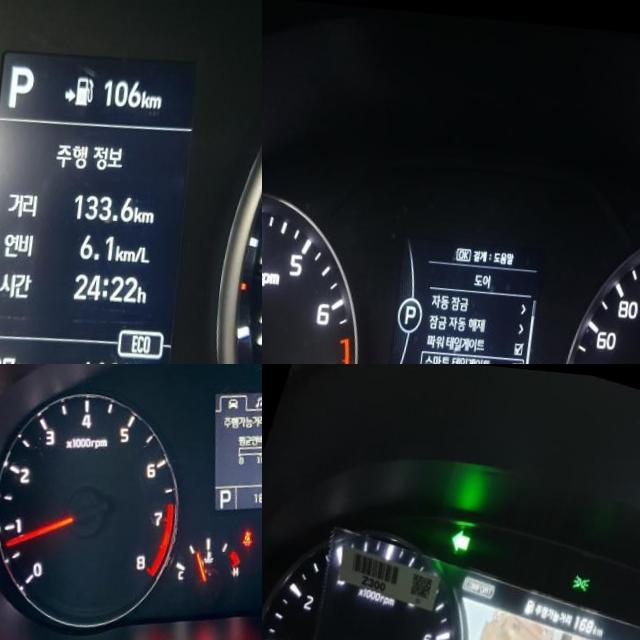SideLamp: (575, 564, 597, 584)
